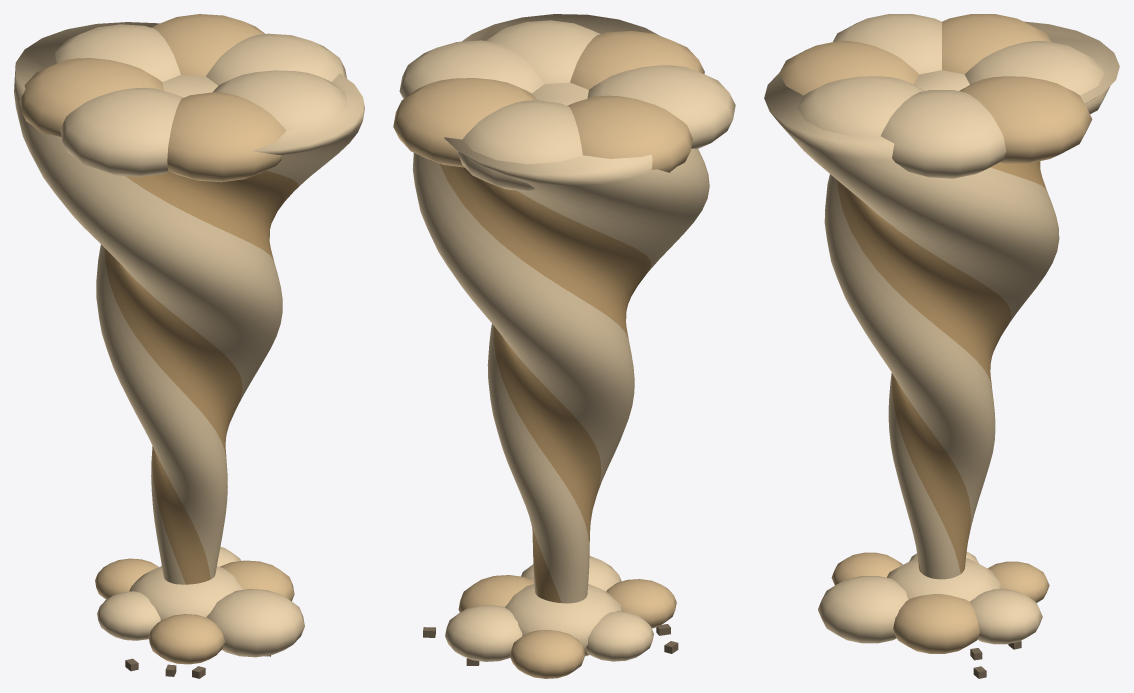
The model's file is prop_twister.glb.
The picture shows the model from 3 angles, left to right: view 1: azimuth 30°, elevation 25°; view 2: azimuth 150°, elevation 25°; view 3: azimuth 270°, elevation 25°; orthographic projection. The views are drawn at different scales.
Visible parts, largest first — view 1: Funnel, Cap5, Cap4, Cap3, Puff5, Cap6, Cap0, Cap2, Cap1, Puff.Core, Puff4, Puff3 (+2 smaller); view 2: Funnel, Cap2, Cap1, Cap3, Cap4, Cap0, Cap5, Cap6, Puff.Core, Puff1, Puff2, Puff3 (+3 smaller); view 3: Funnel, Cap0, Cap1, Cap6, Cap2, Puff5, Cap5, Puff0, Cap4, Cap3, Puff1, Puff.Core (+2 smaller).
Boxes of the visible parts, x1,y1,x2,y2 form: Funnel: (14, 22, 364, 584); Cap5: (167, 92, 285, 182); Cap4: (60, 87, 183, 176); Cap3: (19, 58, 163, 136); Puff5: (206, 589, 304, 657); Cap6: (213, 70, 347, 130); Cap0: (206, 33, 346, 85); Cap2: (55, 24, 180, 81); Cap1: (151, 14, 264, 76); Puff.Core: (129, 566, 243, 620); Puff4: (148, 614, 225, 664); Puff3: (97, 591, 160, 640); Funnel: (412, 14, 709, 603); Cap2: (458, 100, 582, 191); Cap1: (393, 78, 537, 167); Cap3: (567, 95, 692, 172); Cap4: (587, 65, 735, 148); Cap0: (399, 40, 544, 98); Cap5: (570, 31, 704, 89); Cap6: (484, 20, 600, 83); Puff.Core: (505, 584, 622, 656); Puff1: (445, 605, 522, 661); Puff2: (510, 630, 585, 678); Puff3: (586, 611, 653, 661); Funnel: (764, 21, 1119, 579); Cap0: (881, 90, 1006, 178); Cap1: (959, 76, 1092, 163); Cap6: (797, 76, 924, 136); Cap2: (964, 41, 1110, 114); Puff5: (818, 576, 908, 643); Cap5: (779, 41, 919, 95); Puff0: (893, 594, 979, 653); Cap4: (833, 14, 941, 74); Cap3: (942, 14, 1050, 74); Puff1: (970, 589, 1042, 644); Puff.Core: (887, 558, 1001, 601).
Size of the model in its own units: 4.95 by 9.32 by 5.36.
